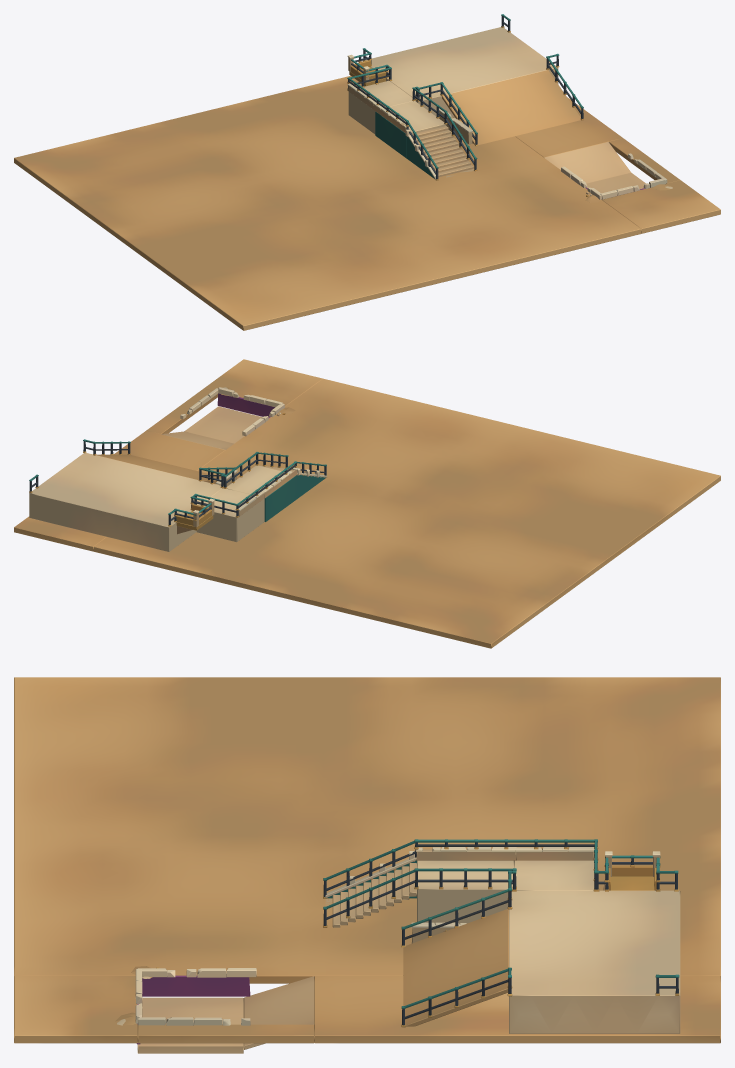
The model's file is ground.glb.
3 renders of one model, top to bottom at view 1: azimuth 30°, elevation 25°; view 2: azimuth 150°, elevation 25°; view 3: azimuth 270°, elevation 25°, orthographic. The views are drawn at different scales.
Visible parts, largest first — view 1: ground; view 2: ground; view 3: ground.
Part boxes in pixels (x1,y1,x2,y2): ground: (14, 14, 720, 330); ground: (14, 359, 720, 648); ground: (14, 677, 720, 1053).
Size of the model in its own units: 48 by 5.69 by 40.
